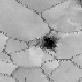good_void: (34, 33, 62, 53)
